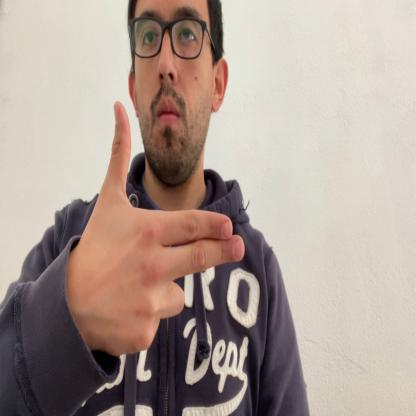H: (89, 99, 245, 357)
